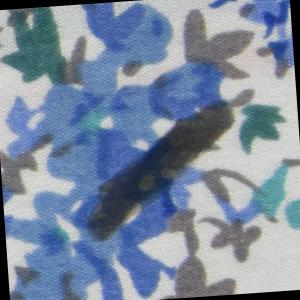Stain: (75, 95, 250, 251)
